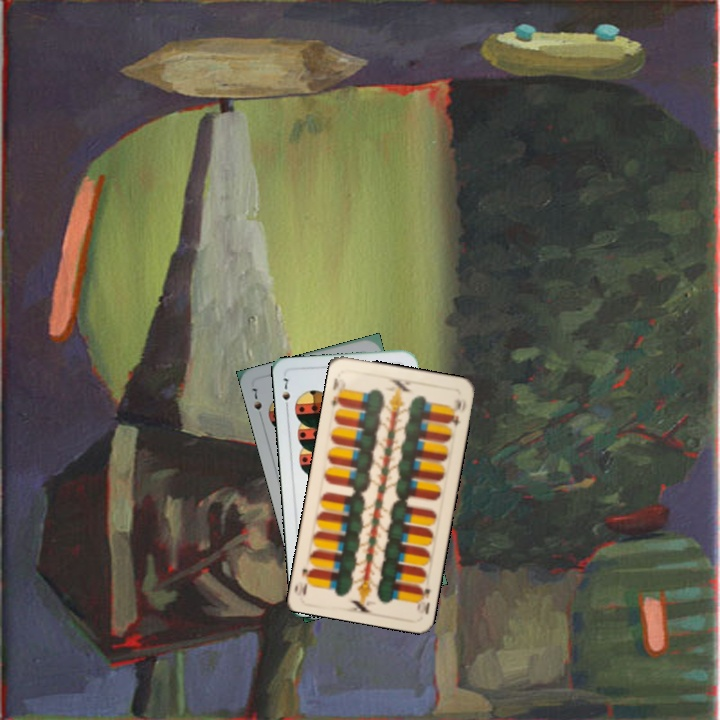E10: (412, 583, 433, 617), (328, 391, 346, 410)
S7: (248, 384, 265, 422), (278, 374, 292, 413)
